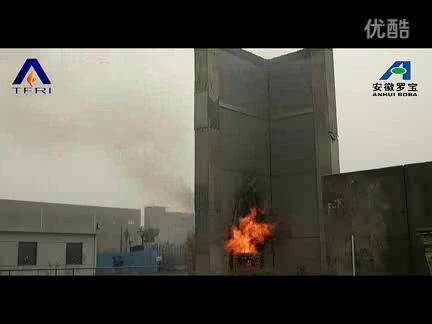fire: (220, 201, 274, 258)
